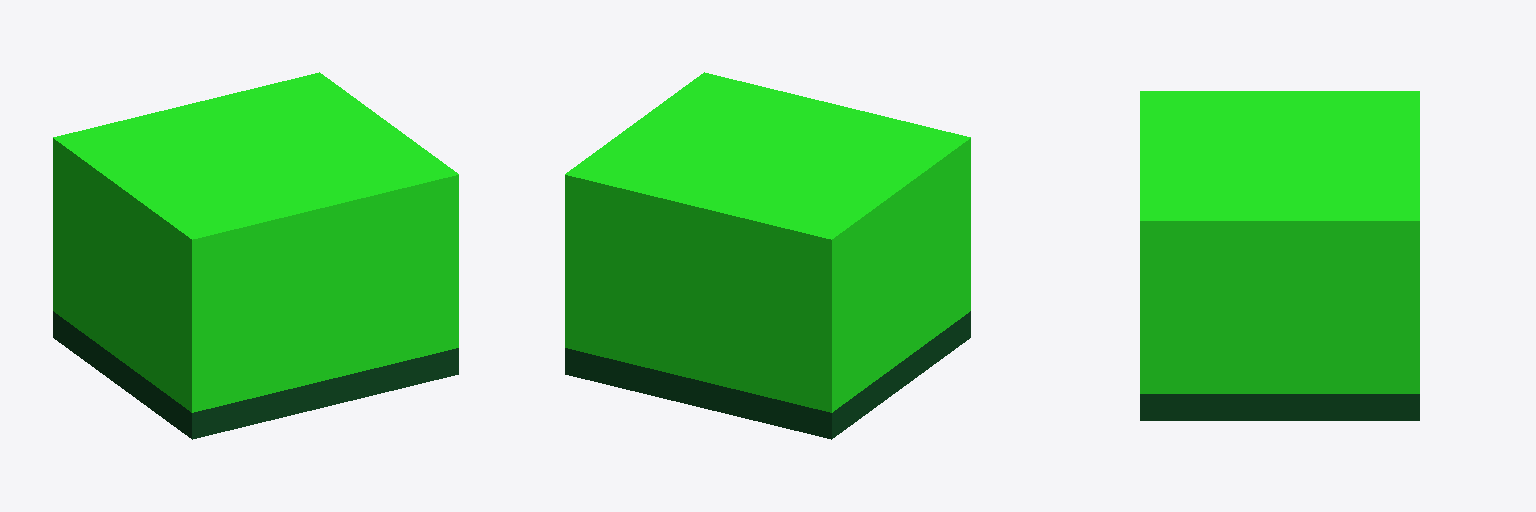
3 views of the same model, side by side, from view 1: azimuth 30°, elevation 25°; view 2: azimuth 150°, elevation 25°; view 3: azimuth 270°, elevation 25° (orthographic).
Parts seen in each view (by area): view 1: object 1; view 2: object 1; view 3: object 1.
Boxes of the visible parts, <box> form: object 1: <box>53,72,458,439</box>; object 1: <box>565,72,970,439</box>; object 1: <box>1140,91,1419,420</box>.
Bounding box in the file's own units: 4.2 × 3 × 3.8.
1 materials, 1 textured.